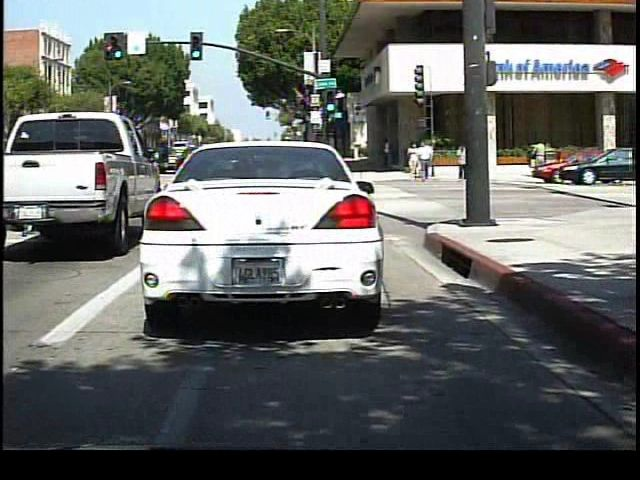person: (528, 136, 550, 176), (452, 137, 470, 182), (418, 137, 435, 183), (408, 140, 421, 182)
